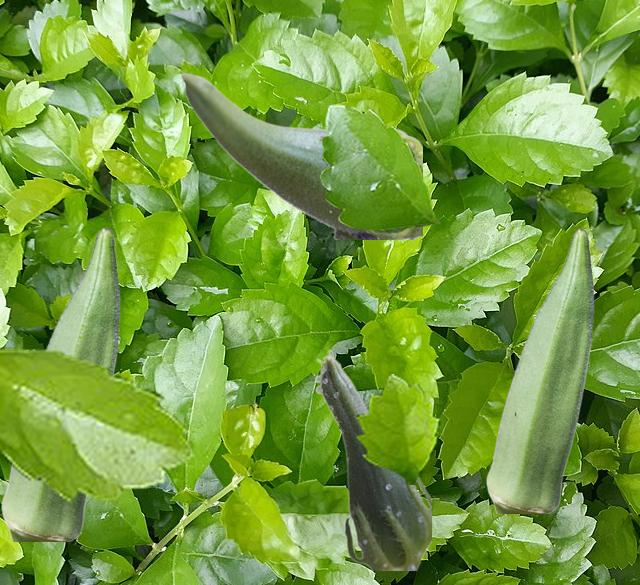okra: (180, 72, 421, 238), (1, 227, 119, 540), (486, 228, 593, 512), (314, 349, 430, 569)
